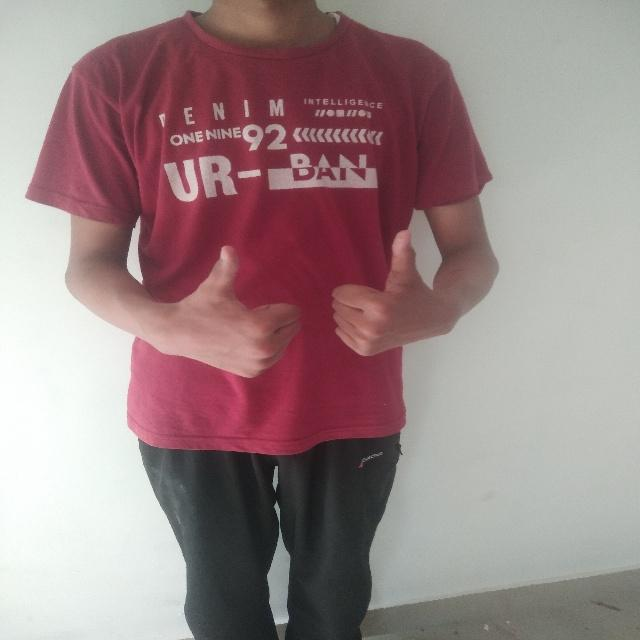Thumbs Up: (167, 241, 300, 386), (324, 227, 436, 363)
